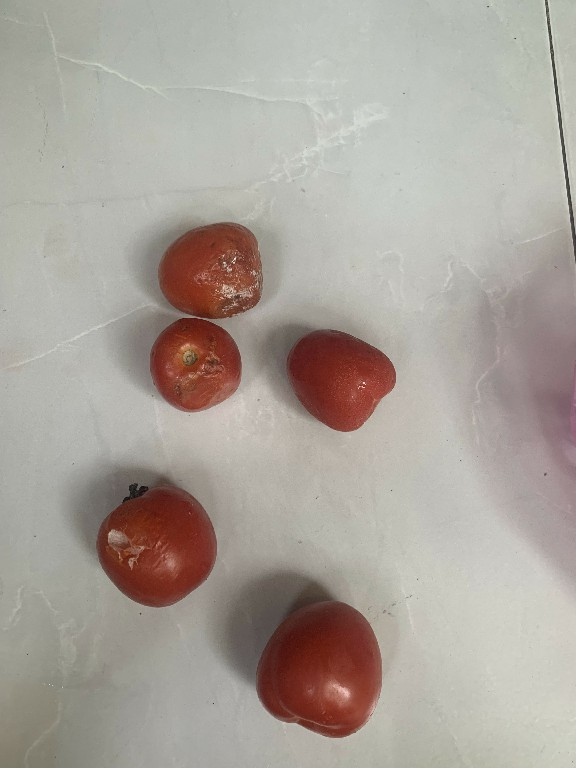NG: (81, 474, 223, 614), (147, 217, 266, 318), (142, 312, 250, 415)
OK: (243, 595, 392, 744), (281, 323, 403, 440)
